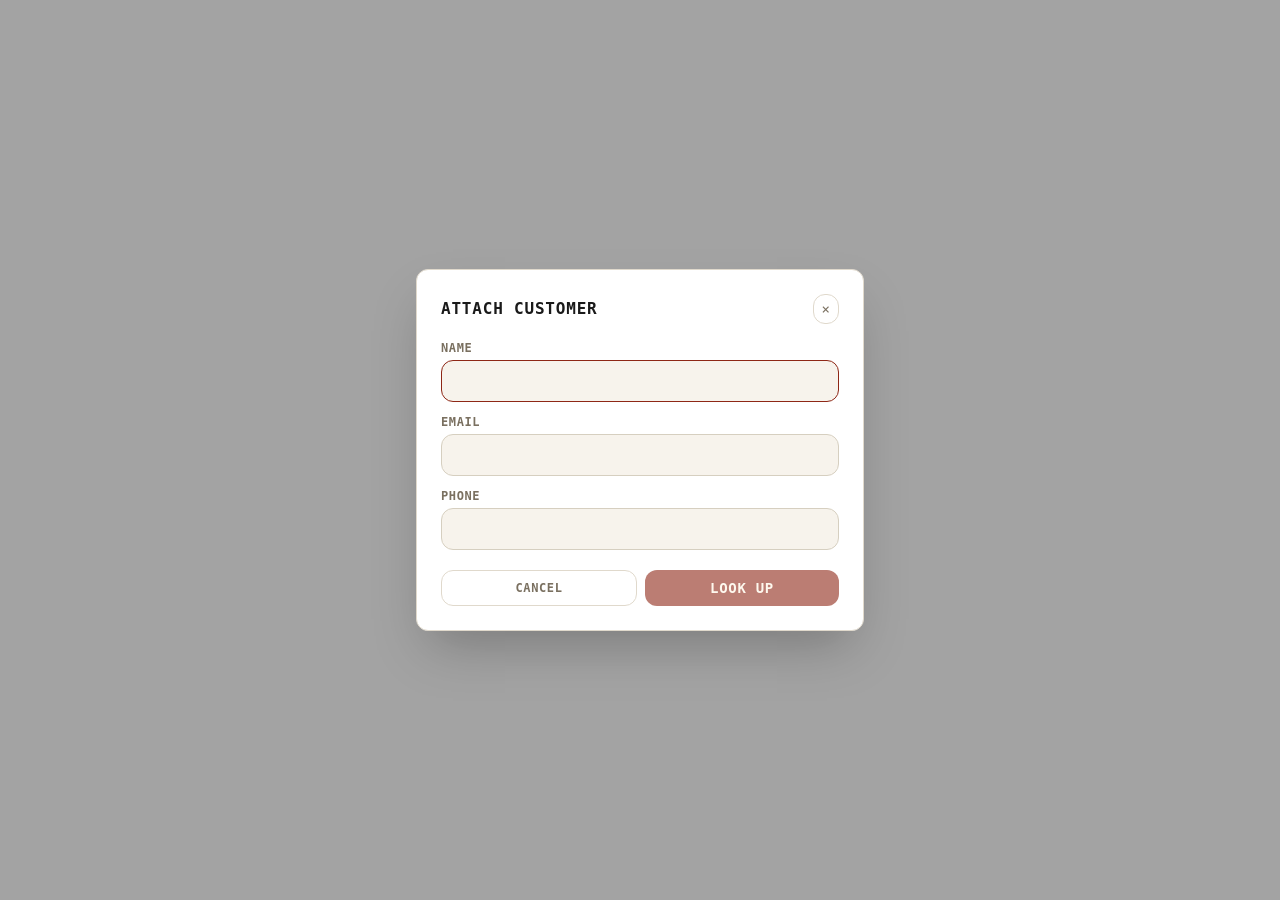
<AttachCustomerModal> › shows the no-match panel with 'Create Customer' + 'Attach As Typed' buttons
Type "Brand New" into the field named "customer name" at (640, 381), box x1=441 y1=360 x2=839 y2=402
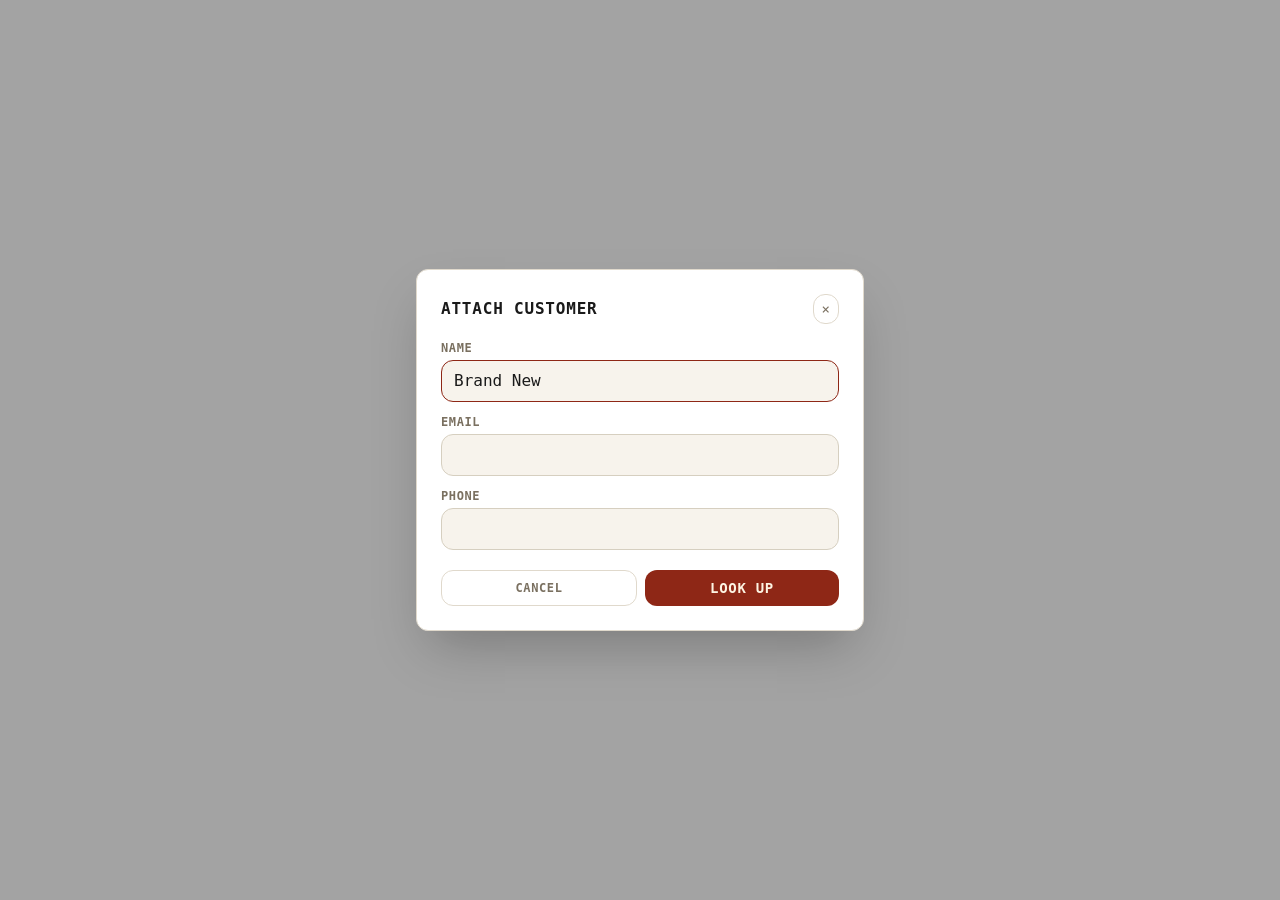
Click the button "Look up" at (742, 588), box x1=645 y1=570 x2=839 y2=606
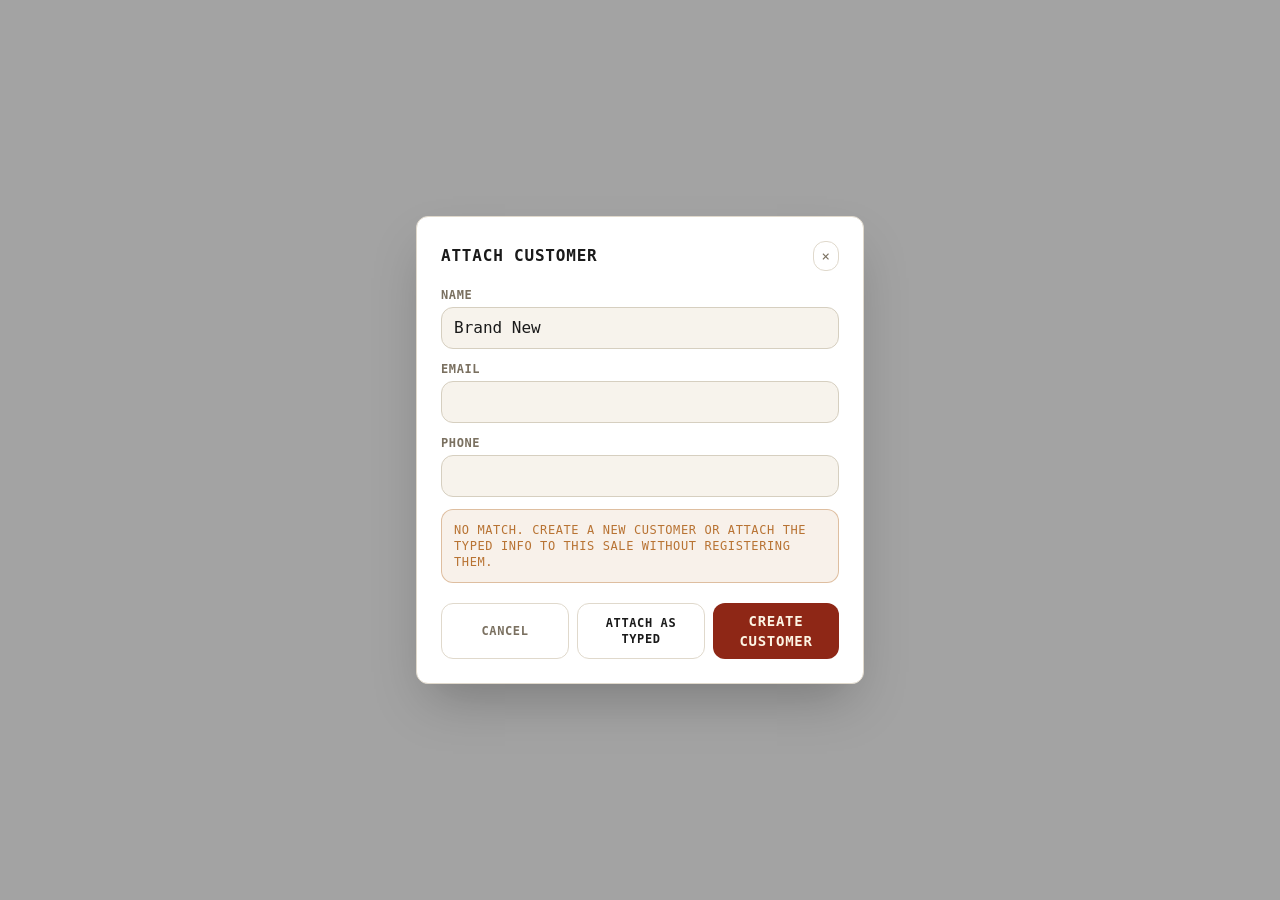
Result: the button "Attach As Typed" is enabled at x1=577 y1=603 x2=705 y2=659
Result: the text with test id "customer-no-match" is shown at x1=441 y1=509 x2=839 y2=583
Result: the button "Create Customer" is enabled at x1=713 y1=603 x2=839 y2=659
